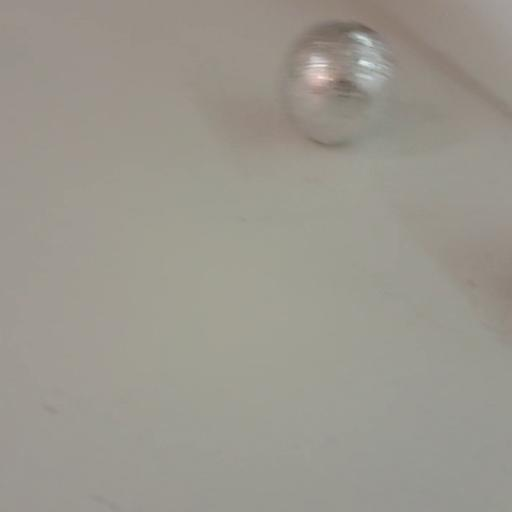alive: (280, 16, 398, 147)
